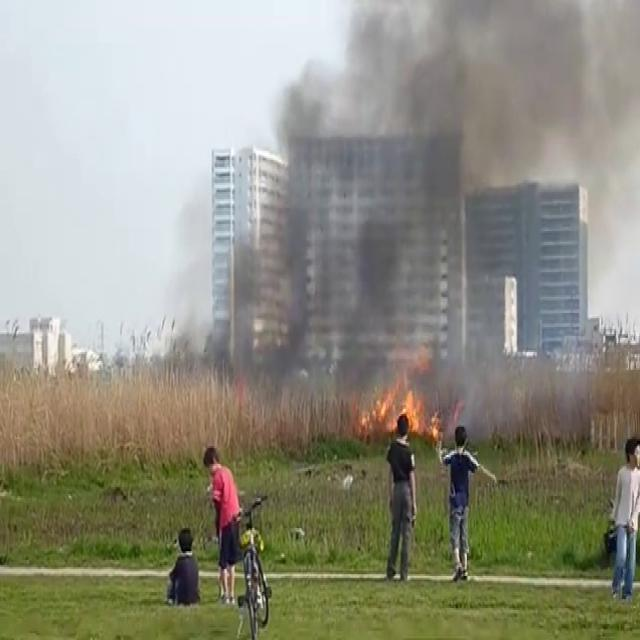Fire: (356, 372, 441, 442)
Smoke: (271, 0, 640, 412)
